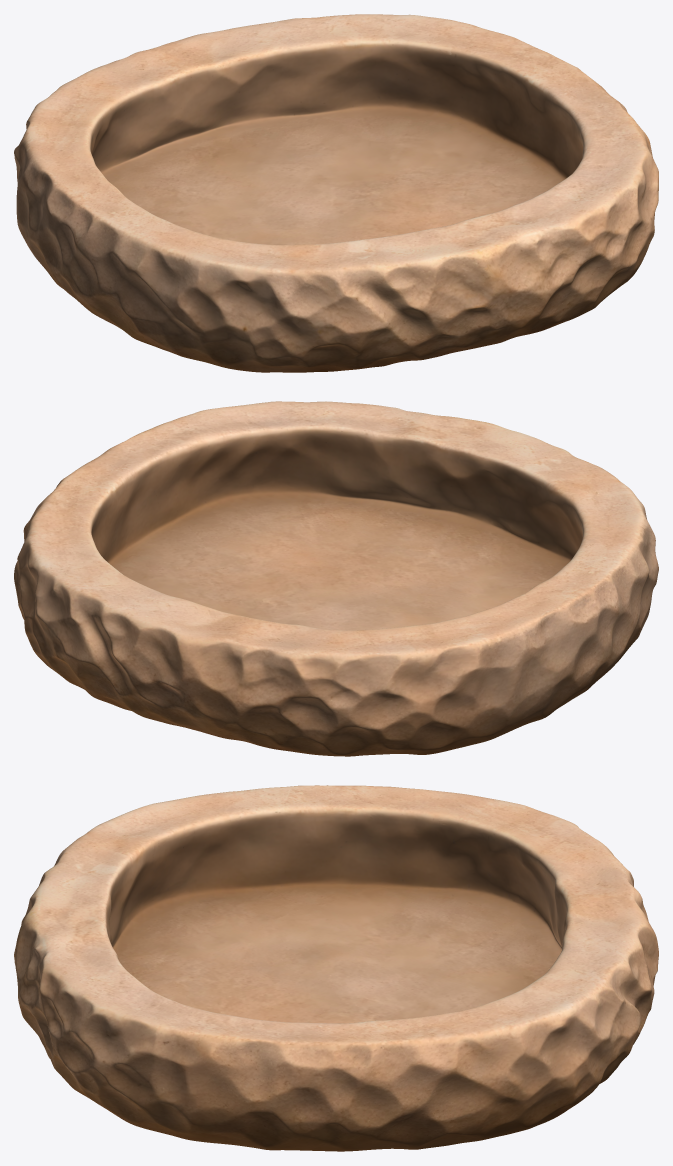
Rendered from stone-bowl.glb.
3 views of the same model, one above another, from view 1: azimuth 30°, elevation 25°; view 2: azimuth 150°, elevation 25°; view 3: azimuth 270°, elevation 25° (orthographic). The views are drawn at different scales.
Parts seen in each view (by area): view 1: tripo_node_0ea353e5-e09c-4cfc-b06c-995059b3016a; view 2: tripo_node_0ea353e5-e09c-4cfc-b06c-995059b3016a; view 3: tripo_node_0ea353e5-e09c-4cfc-b06c-995059b3016a.
Part boxes in pixels (x1=…): tripo_node_0ea353e5-e09c-4cfc-b06c-995059b3016a: x1=14, y1=14, x2=658, y2=372; tripo_node_0ea353e5-e09c-4cfc-b06c-995059b3016a: x1=14, y1=401, x2=658, y2=756; tripo_node_0ea353e5-e09c-4cfc-b06c-995059b3016a: x1=14, y1=785, x2=658, y2=1151.
Bounding box in the file's own units: 1 × 0.2013 × 0.9911.
Materials: 1 (1 with a texture image).
